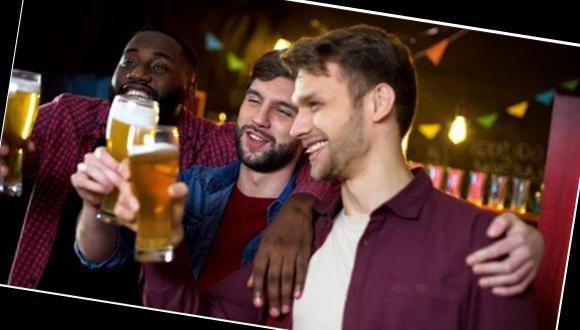Drunk: (295, 68, 374, 180), (237, 76, 298, 165), (113, 34, 179, 113)
